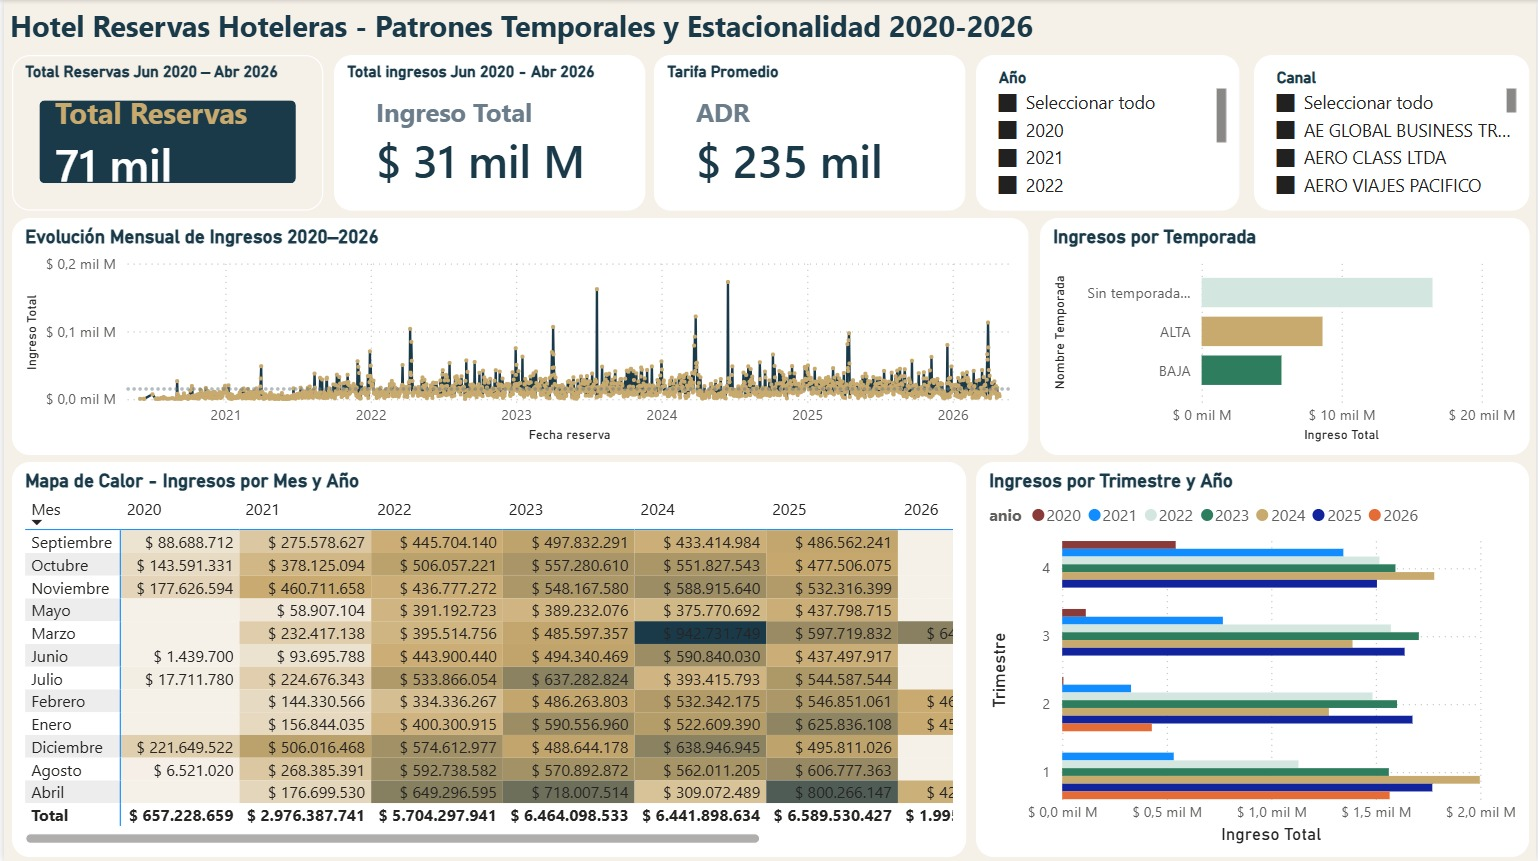

What the dashboard file says about the page in this screenshot:
{"tool":"powerbi","page":{"name":"PatronesTemporales","canvas":[1280,720],"ordinal":3},"visuals":[{"type":"textbox","box":[0,0,885.6,45.6],"z":0},{"type":"lineChart","title":"Evolución Mensual de Ingresos 2020–2026","fields":{"Category":["dim_fecha.fecha"],"Y":["fact_reservas.Ingreso Total"]},"box":[6.7,182.2,848.9,197.8],"z":1000},{"type":"pivotTable","title":"Mapa de Calor - Ingresos por Mes y Año","fields":{"Rows":["dim_fecha.nombre_mes"],"Columns":["dim_fecha.anio"],"Values":["fact_reservas.Ingreso Total"]},"box":[6.7,385.6,796.7,330],"z":2000},{"type":"clusteredBarChart","title":"Ingresos por Trimestre y Año","fields":{"Category":["dim_fecha.trimestre"],"Y":["fact_reservas.Ingreso Total"],"Series":["dim_fecha.anio"]},"box":[812.2,385.6,462.2,330],"z":3000},{"type":"clusteredBarChart","title":"Ingresos por Temporada","fields":{"Y":["fact_reservas.Ingreso Total"],"Category":["dim_temporada.nombre_temporada"]},"box":[865.6,182.2,408.9,197.8],"z":4000},{"type":"slicer","title":"Año","fields":{"Values":["dim_fecha.calendario.anio"]},"box":[812.2,45.6,220,130],"z":5000},{"type":"slicer","title":"Año","fields":{"Values":["dim_canal.nombre_canal"]},"box":[1044.4,45.6,230,130],"z":6000},{"type":"cardVisual","title":"Total ingresos Jun 2020 - Abr 2026","fields":{"Data":["fact_reservas.Ingreso Total"]},"box":[275.6,45.6,260,130],"z":7000},{"type":"cardVisual","title":"Total Reservas Jun 2020 – Abr 2026","fields":{"Data":["fact_reservas.Total Reservas"]},"box":[6.7,45.6,260,130],"z":8000},{"type":"cardVisual","title":"Tarifa Promedio","fields":{"Data":["fact_reservas.ADR"]},"box":[543.3,45.6,260,130],"z":9000}]}

Visuals, with their boxes in screenshot pixels (x1, y1, x2, y2), scaled from the page's 1280x720 canvas onto the 1538x861 screenshot:
textbox: l=0, t=0, r=1064, b=55
"Evolución Mensual de Ingresos 2020–2026" lineChart: l=8, t=218, r=1028, b=454
"Mapa de Calor - Ingresos por Mes y Año" pivotTable: l=8, t=461, r=965, b=856
"Ingresos por Trimestre y Año" clusteredBarChart: l=976, t=461, r=1531, b=856
"Ingresos por Temporada" clusteredBarChart: l=1040, t=218, r=1531, b=454
"Año" slicer: l=976, t=55, r=1240, b=210
"Año" slicer: l=1255, t=55, r=1531, b=210
"Total ingresos Jun 2020 - Abr 2026" cardVisual: l=331, t=55, r=644, b=210
"Total Reservas Jun 2020 – Abr 2026" cardVisual: l=8, t=55, r=320, b=210
"Tarifa Promedio" cardVisual: l=653, t=55, r=965, b=210
